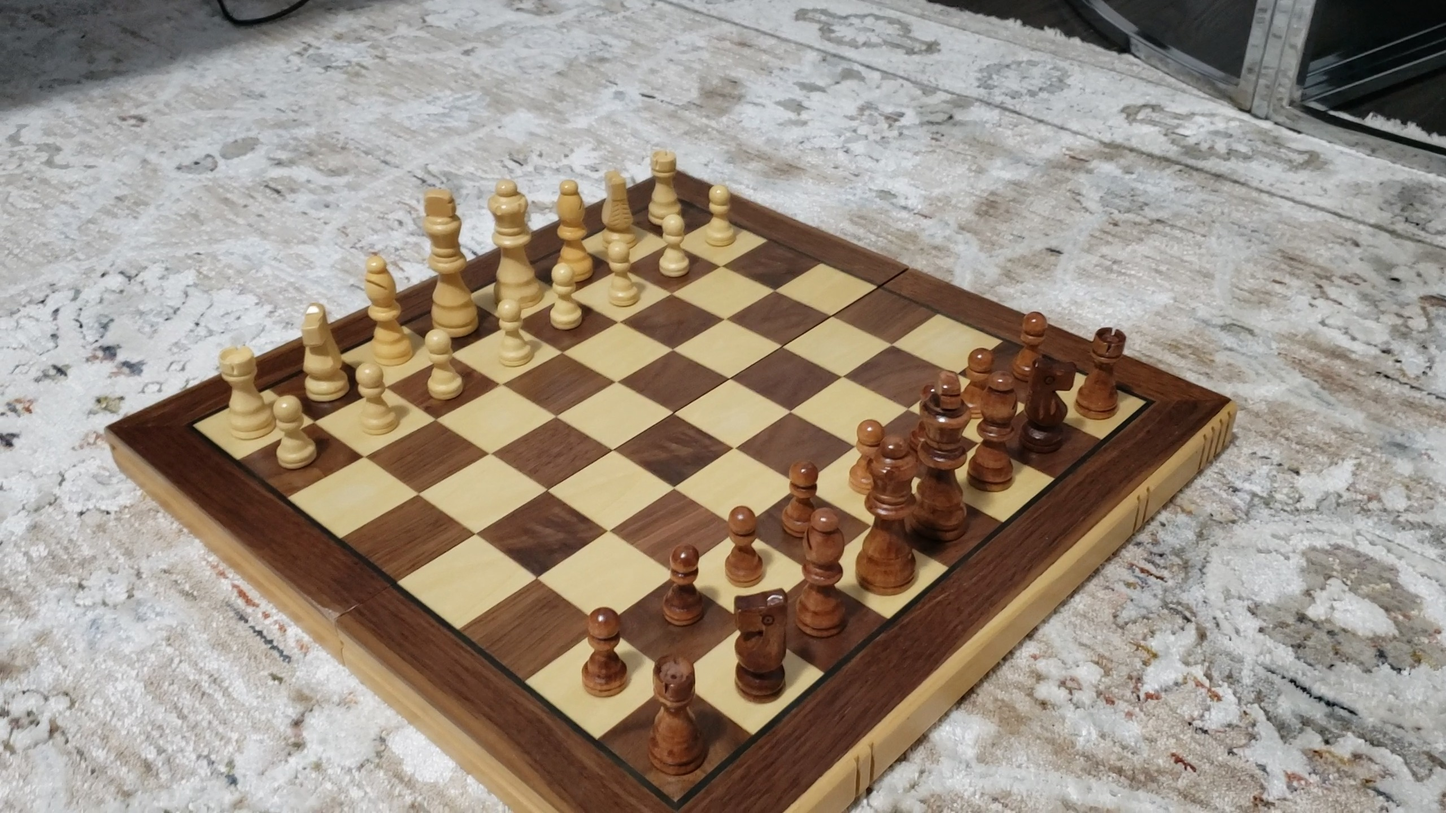black-bishop: (796, 504, 850, 639), (968, 366, 1022, 488)
black-king: (911, 370, 976, 542)
black-knight: (730, 588, 792, 703), (1020, 352, 1074, 454)
black-pawn: (579, 604, 631, 700), (660, 540, 707, 630), (780, 456, 824, 543), (722, 502, 765, 588), (846, 415, 888, 496), (1007, 307, 1049, 383), (958, 342, 997, 411)
black-queen: (854, 415, 926, 595)
black-rook: (647, 654, 706, 777), (1073, 325, 1129, 419)
white-bishop: (360, 251, 411, 365), (553, 176, 593, 289)
white-king: (418, 181, 476, 338)
white-knight: (298, 300, 349, 405)
white-pawn: (264, 389, 323, 474), (487, 286, 541, 372), (596, 228, 648, 313), (349, 361, 403, 439), (419, 323, 468, 405), (542, 259, 589, 335), (650, 208, 696, 284), (700, 177, 742, 253)
white-queen: (487, 173, 537, 311)
white-rook: (216, 342, 274, 442), (642, 146, 683, 231)
